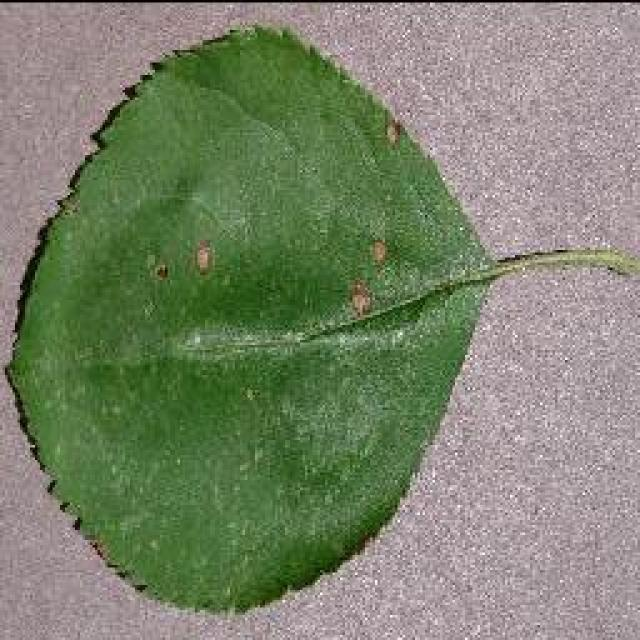Black_rot: (2, 18, 638, 618)
